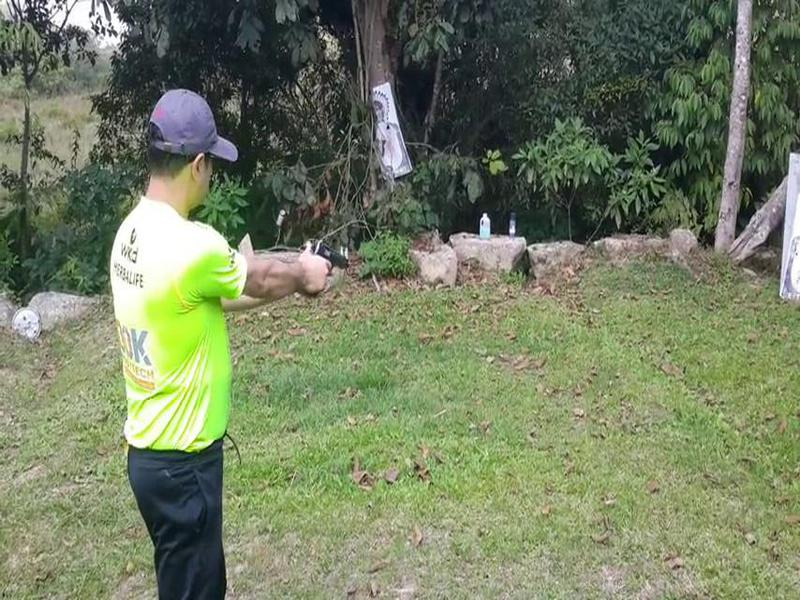Pistola: (307, 234, 360, 288)
